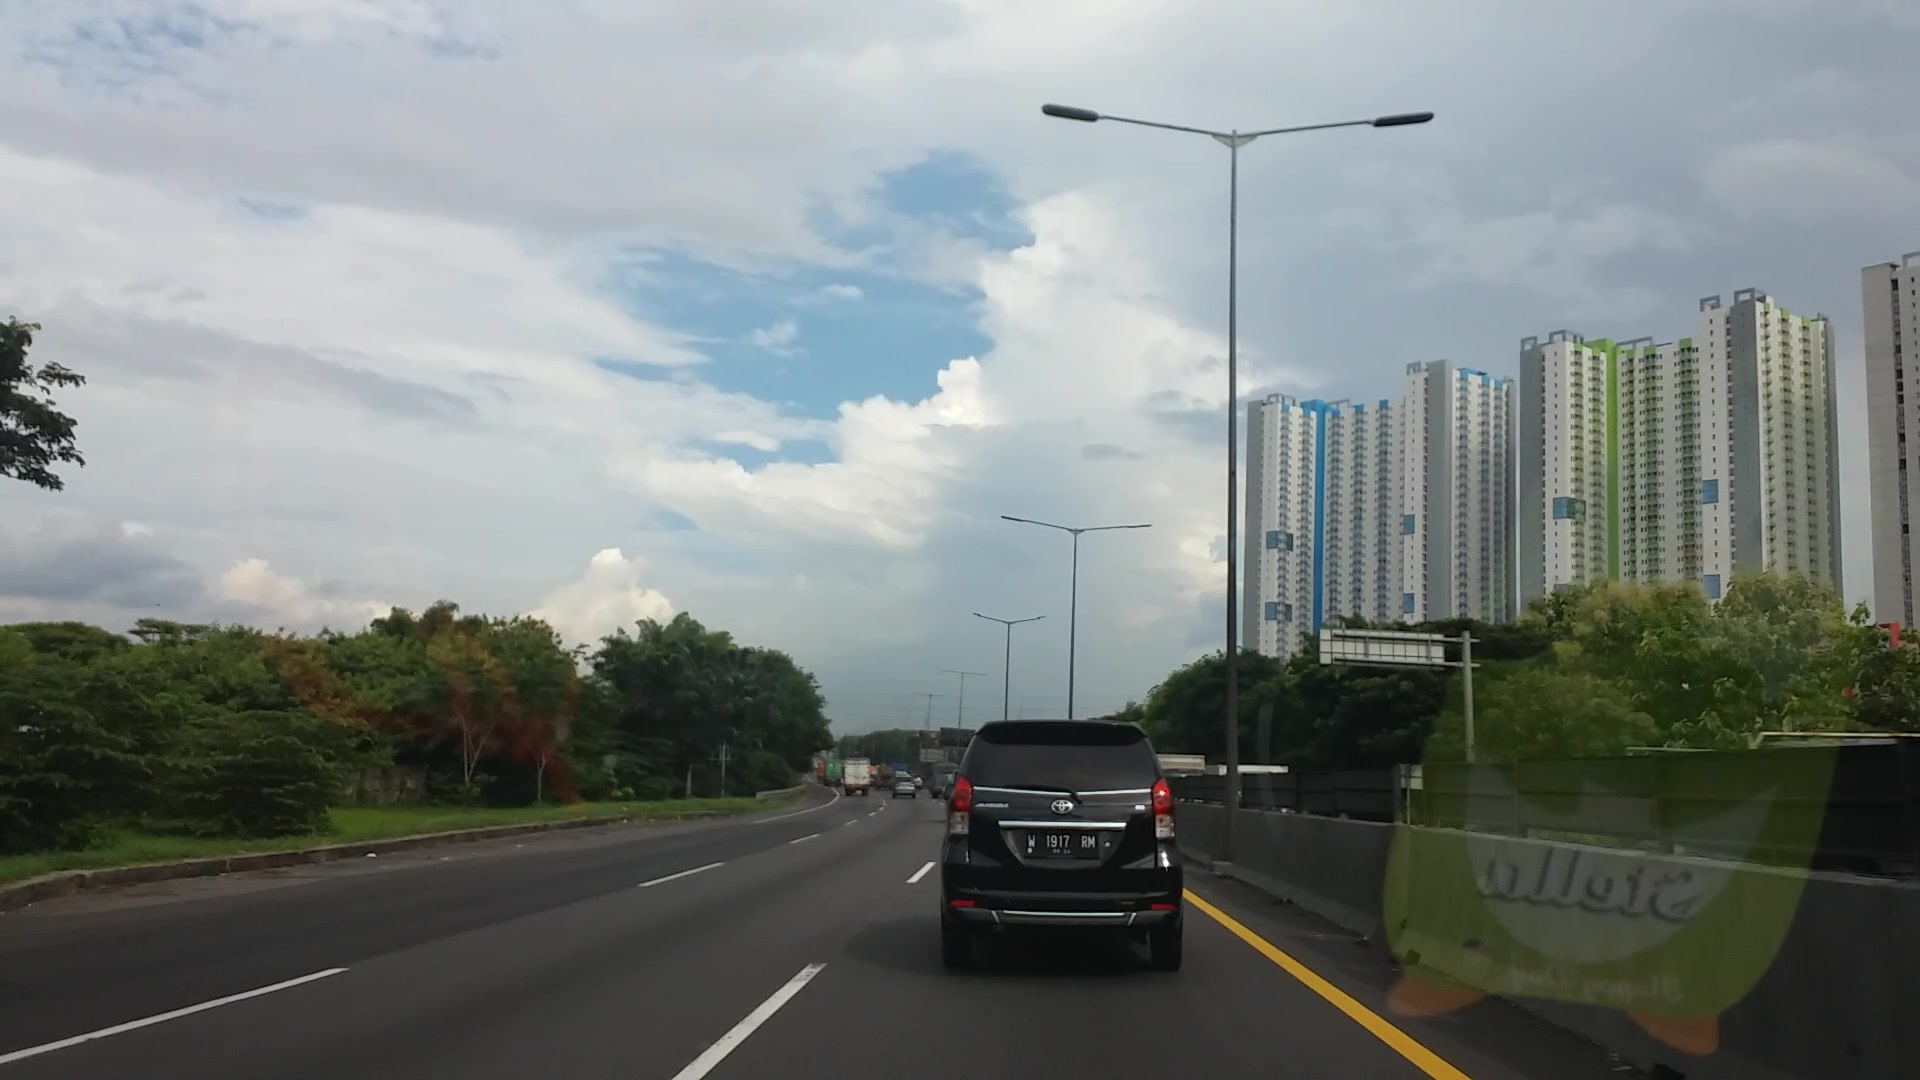plate_positive: (1025, 829, 1098, 858)
